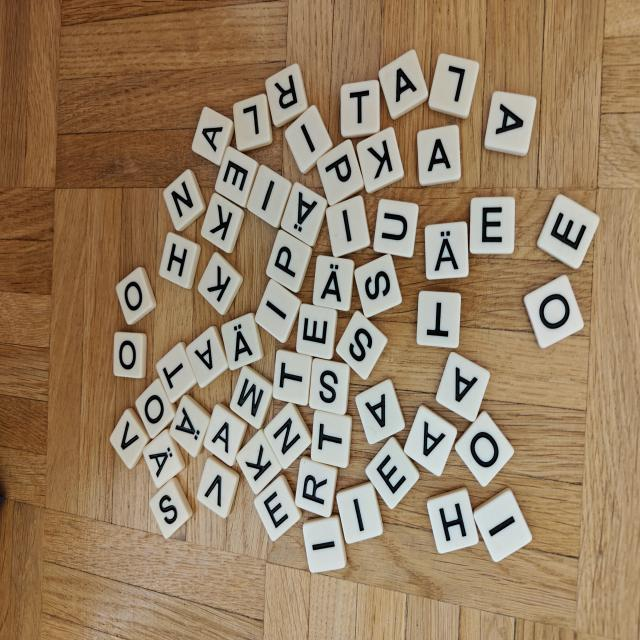a: (436, 352, 490, 422), (404, 405, 457, 476), (379, 50, 428, 119), (485, 92, 536, 156), (355, 379, 405, 444), (417, 125, 461, 186), (204, 404, 247, 466), (186, 326, 228, 388), (192, 106, 234, 165)
a_dot: (281, 183, 327, 246), (425, 221, 469, 280), (170, 395, 210, 457), (143, 429, 185, 488), (221, 313, 264, 370), (313, 256, 355, 311)
e: (537, 195, 599, 269), (365, 436, 419, 509), (254, 475, 302, 541), (469, 196, 515, 254), (215, 147, 259, 207), (296, 304, 337, 360)
h: (427, 488, 478, 553), (159, 232, 200, 289)
i: (474, 489, 532, 562), (285, 106, 333, 174), (255, 279, 301, 342), (337, 482, 383, 544), (247, 165, 292, 227), (326, 196, 370, 257), (303, 515, 346, 572)
k: (357, 127, 404, 193), (237, 429, 282, 494), (198, 252, 243, 315), (201, 192, 244, 253)
l: (429, 54, 479, 118), (233, 94, 272, 151)
m: (230, 366, 273, 429)
n: (265, 403, 311, 469), (163, 169, 206, 231)
o: (455, 411, 514, 486), (524, 275, 583, 348), (135, 379, 176, 439), (116, 267, 156, 324), (113, 332, 147, 378)
p: (317, 140, 364, 205), (266, 230, 312, 292)
r: (265, 63, 308, 127), (295, 456, 338, 516)
s: (336, 311, 388, 380), (354, 254, 402, 318), (149, 477, 192, 538), (309, 358, 351, 415)
t: (416, 291, 461, 349), (156, 342, 197, 402), (311, 410, 352, 468), (340, 80, 380, 138), (273, 350, 312, 405)
u: (373, 199, 418, 257)
v: (197, 457, 239, 518), (110, 409, 151, 469)
